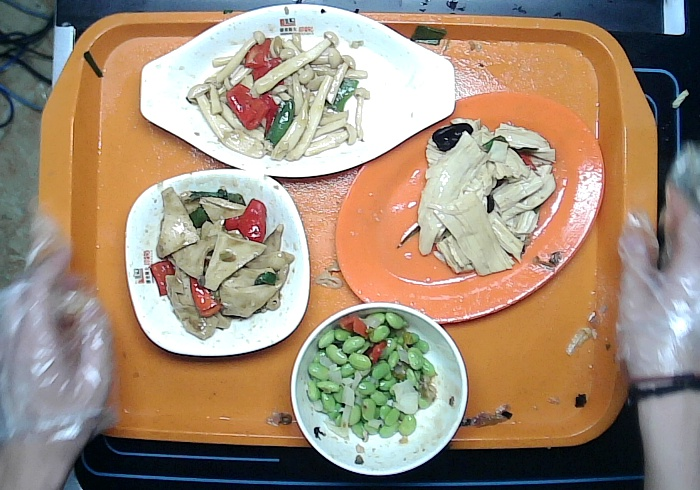NLDX-Bai_Se_Xiao_Fang_Die: (122, 168, 312, 358)
NLDX-Fan_Wan: (289, 302, 470, 476)
NLDX-Ju_Se_Pan: (332, 89, 605, 326)
NLDX-Yu_Pan: (138, 2, 457, 179)
